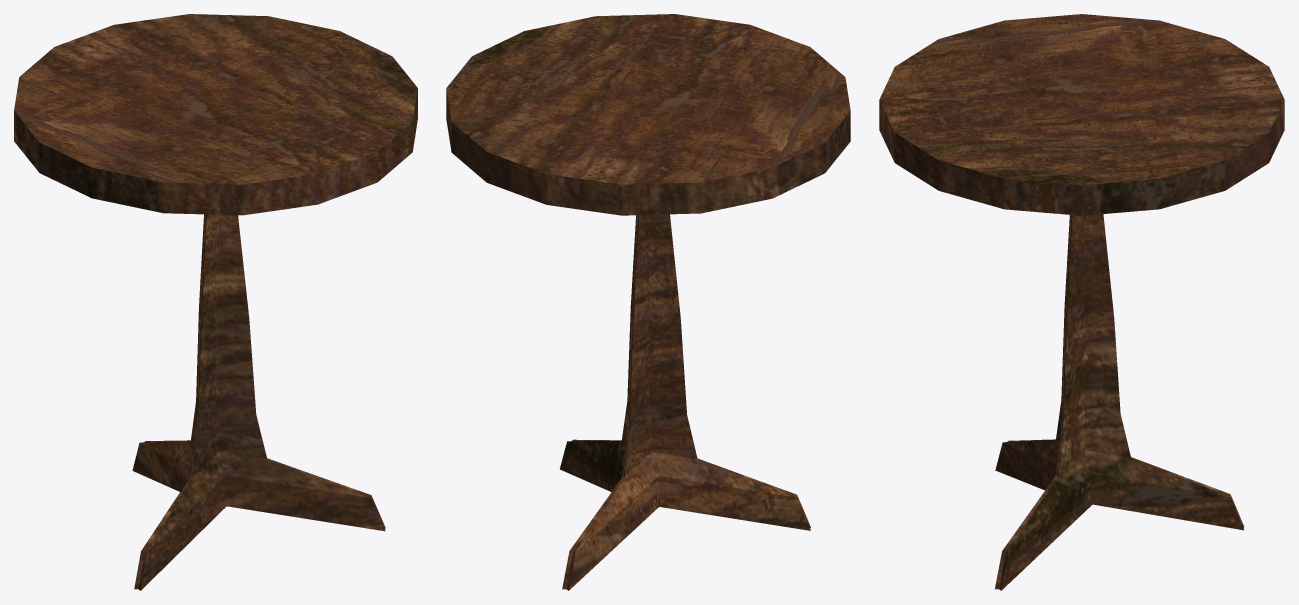
Rendered from table.obj.
The picture shows the model from 3 angles, left to right: view 1: azimuth 30°, elevation 25°; view 2: azimuth 150°, elevation 25°; view 3: azimuth 270°, elevation 25°; orthographic projection.
Visible parts, largest first — view 1: Circle.001_Circle.003; view 2: Circle.001_Circle.003; view 3: Circle.001_Circle.003.
Boxes of the visible parts, x1,y1,x2,y2 form: Circle.001_Circle.003: [14, 14, 417, 590]; Circle.001_Circle.003: [446, 14, 850, 590]; Circle.001_Circle.003: [879, 14, 1284, 590].
Bounding box in the file's own units: 0.6 × 0.7 × 0.6.
Materials: 1 (1 with a texture image).
